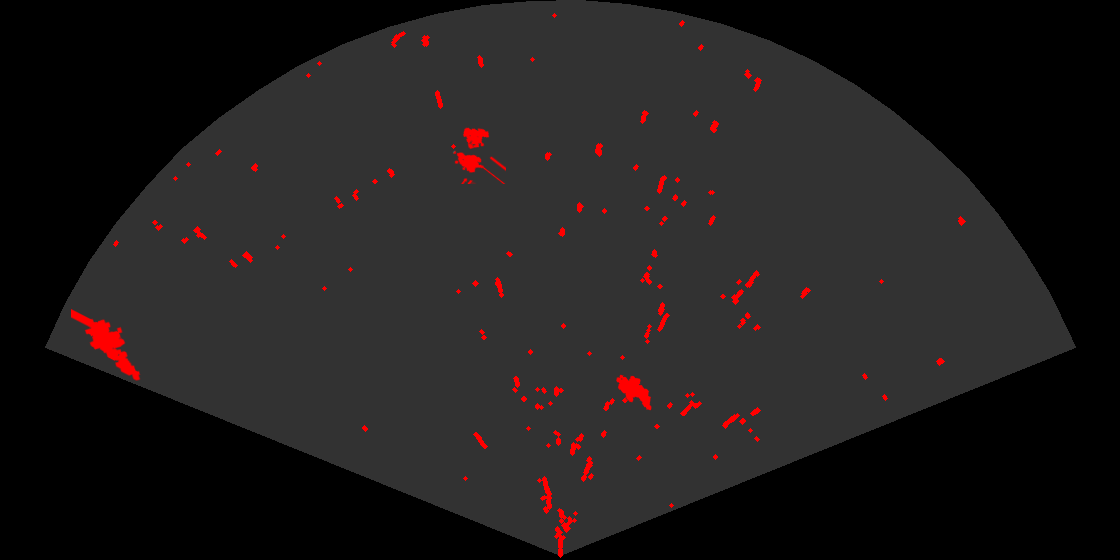AUV: (615, 373, 653, 412)
cage: (452, 126, 506, 184)
frogman: (71, 307, 142, 382)
